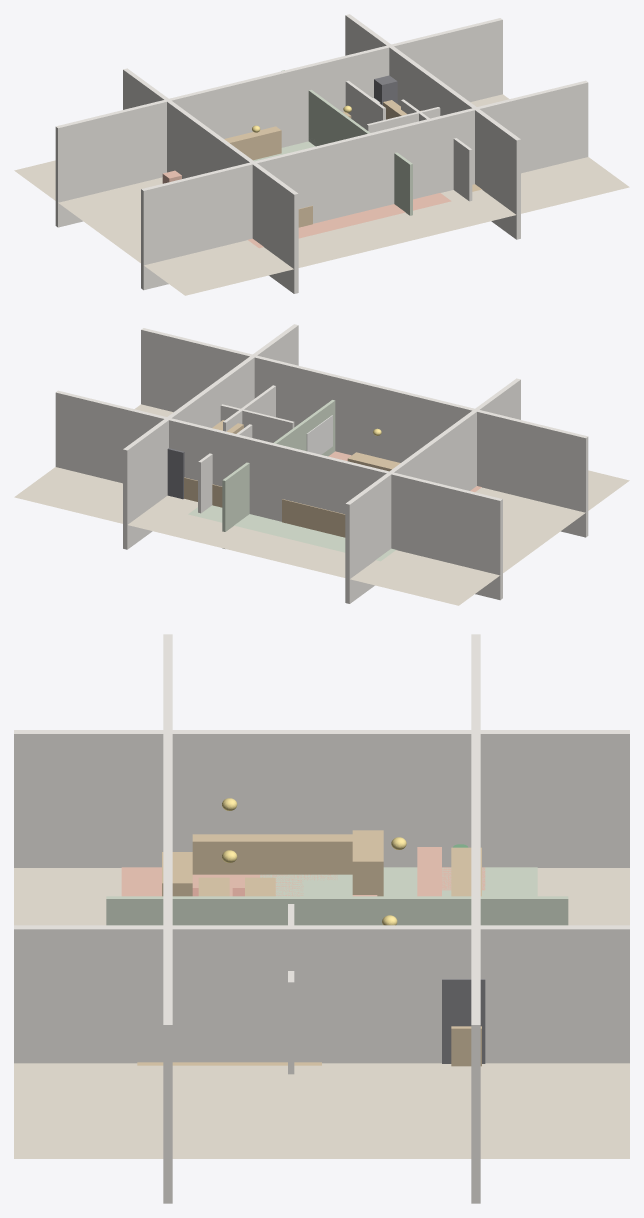
The picture shows the model from 3 angles, top to bottom: view 1: azimuth 30°, elevation 25°; view 2: azimuth 150°, elevation 25°; view 3: azimuth 270°, elevation 25°; orthographic projection. The views are drawn at different scales.
Parts seen in each view (by area): view 1: WallS, WallN, Floor, WallW, WallE, PartN, ClassCarpet, PartWC, PartEN, PartS, PartMid, ToyCab3 (+2 smaller); view 2: WallS, WallN, Floor, WallW, WallE, PlayCarpet, PartN, PartMid, PartS, PartEN, PartWC, Fridge (+5 smaller); view 3: WallE, WallW, Floor, PartN, WallN, WallS, PartS, PlayCarpet, ShoeCab1, ShoeCab2, ShoeCab3, ClassCarpet (+7 smaller).
Boxes of the visible parts, x1=… form: WallS: x1=141, y1=80, x2=588, y2=290; WallN: x1=55, y1=18, x2=502, y2=227; Floor: x1=14, y1=94, x2=629, y2=295; WallW: x1=123, y1=68, x2=298, y2=293; WallE: x1=345, y1=14, x2=520, y2=239; PartN: x1=282, y1=70, x2=369, y2=146; ClassCarpet: x1=248, y1=193, x2=451, y2=248; PartWC: x1=401, y1=99, x2=472, y2=201; PartEN: x1=345, y1=80, x2=385, y2=129; PartS: x1=357, y1=123, x2=412, y2=215; PartMid: x1=366, y1=107, x2=440, y2=132; ToyCab3: x1=246, y1=126, x2=281, y2=158; WallS: x1=141, y1=328, x2=588, y2=537; WallN: x1=55, y1=390, x2=502, y2=600; Floor: x1=14, y1=404, x2=629, y2=605; WallW: x1=345, y1=378, x2=520, y2=603; WallE: x1=123, y1=324, x2=298, y2=549; PlayCarpet: x1=188, y1=505, x2=395, y2=561; PartN: x1=222, y1=405, x2=326, y2=548; PartMid: x1=220, y1=404, x2=294, y2=442; PartS: x1=283, y1=400, x2=335, y2=456; PartEN: x1=198, y1=424, x2=252, y2=513; PartWC: x1=223, y1=385, x2=275, y2=431; Fridge: x1=167, y1=448, x2=184, y2=499; WallE: x1=14, y1=925, x2=629, y2=1063; WallW: x1=14, y1=730, x2=629, y2=867; Floor: x1=14, y1=868, x2=629, y2=1158; PartN: x1=198, y1=896, x2=568, y2=925; WallN: x1=471, y1=634, x2=480, y2=1203; WallS: x1=163, y1=634, x2=172, y2=1203; PartS: x1=106, y1=896, x2=352, y2=925; PlayCarpet: x1=260, y1=867, x2=537, y2=896; ShoeCab1: x1=192, y1=834, x2=266, y2=874; ShoeCab2: x1=239, y1=834, x2=312, y2=874; ShoeCab3: x1=285, y1=834, x2=352, y2=874; ClassCarpet: x1=121, y1=867, x2=337, y2=896.
Bounding box in the file's own units: 30 × 6.4 × 20.
